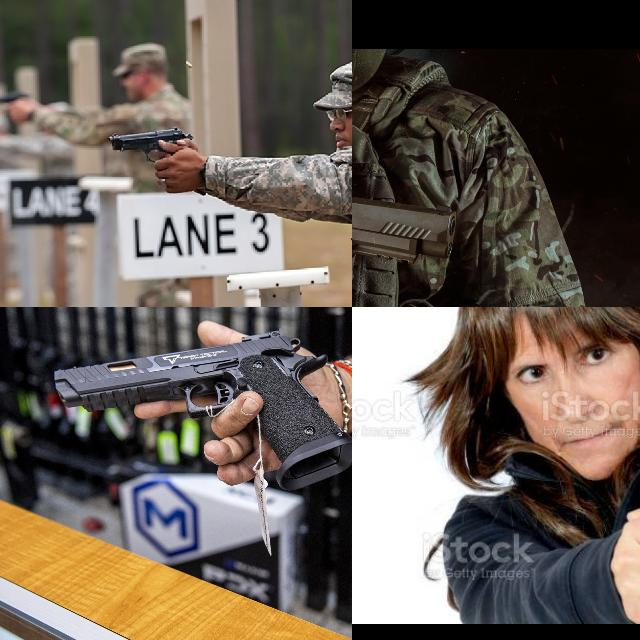handgun: (50, 327, 352, 495), (352, 176, 472, 284), (106, 126, 194, 162)
